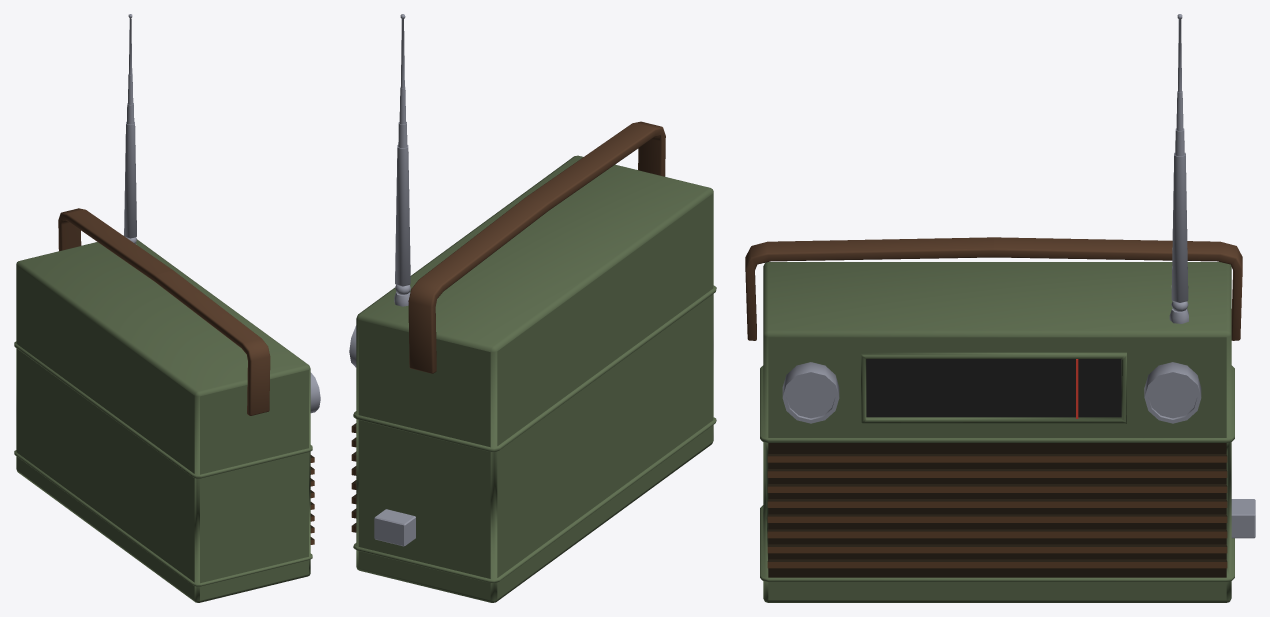
The model's file is RadioV1.fbx.
3 renders of one model, left to right at view 1: azimuth 30°, elevation 25°; view 2: azimuth 150°, elevation 25°; view 3: azimuth 270°, elevation 25°, orthographic. The views are drawn at different scales.
Visible parts, largest first — view 1: RadioBase; view 2: RadioBase, OnOffButton; view 3: RadioBase, OnOffButton.
Part boxes in pixels (box(x1,y1,x2,y2)): RadioBase: box(14, 14, 320, 602); RadioBase: box(349, 14, 716, 602); OnOffButton: box(374, 509, 415, 546); RadioBase: box(745, 14, 1242, 602); OnOffButton: box(1231, 499, 1255, 538).
Size of the model in its own units: 10.49 by 33.6 by 26.88.
